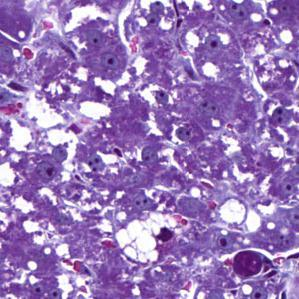ballooning: (110, 215, 177, 267)
